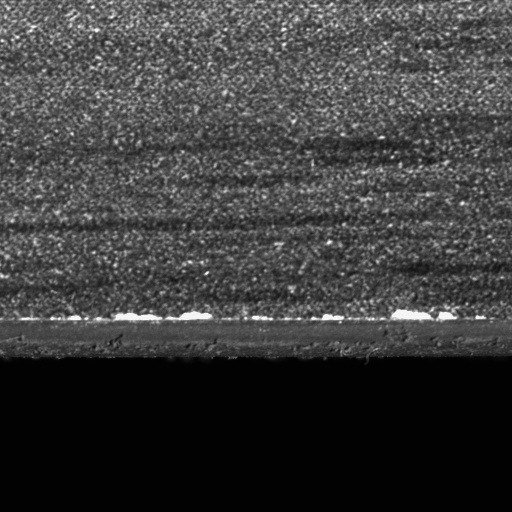huashang: (112, 311, 213, 322), (393, 309, 459, 323)
